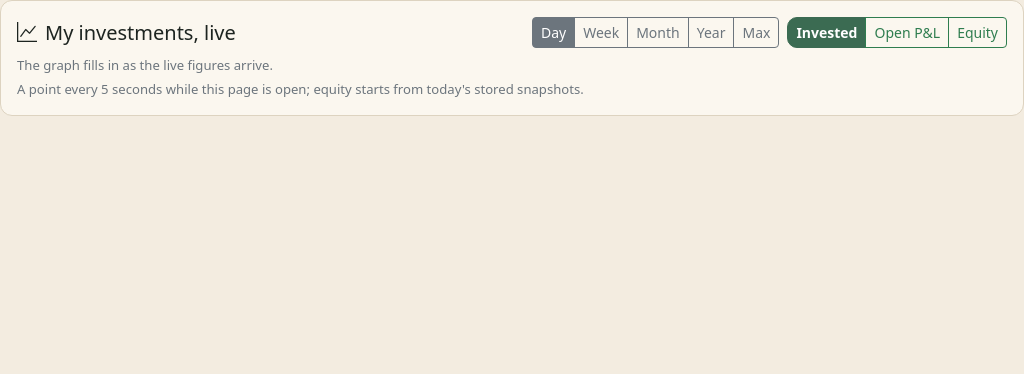
LiveInvestChart › shows a week, month, year or max from the stored snapshots (R43)
The width and height of the screenshot is (1024, 374).
expect the button "Day" is shown: met, box [532, 17, 575, 48]
expect the button "Month" is shown: met, box [627, 17, 689, 48]
What coordinates should you click on to do the following:
click the button "Week"
I would click on:
 (601, 32)
Its box is [574, 17, 628, 48].
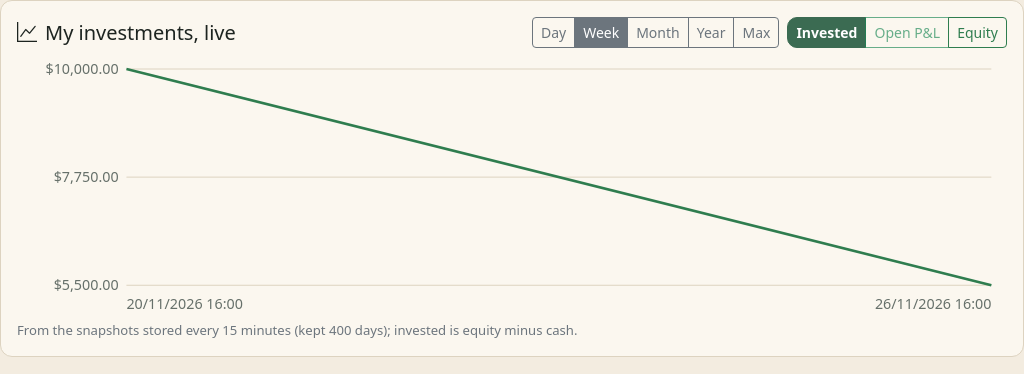
expect the picture named "Graph: Invested" is shown: met
expect the button "Open P&L" is disabled: met, box [866, 17, 949, 48]
What coordinates should you click on to do the following:
click the button "Max"
I would click on:
 (756, 32)
Its box is [734, 17, 780, 48].
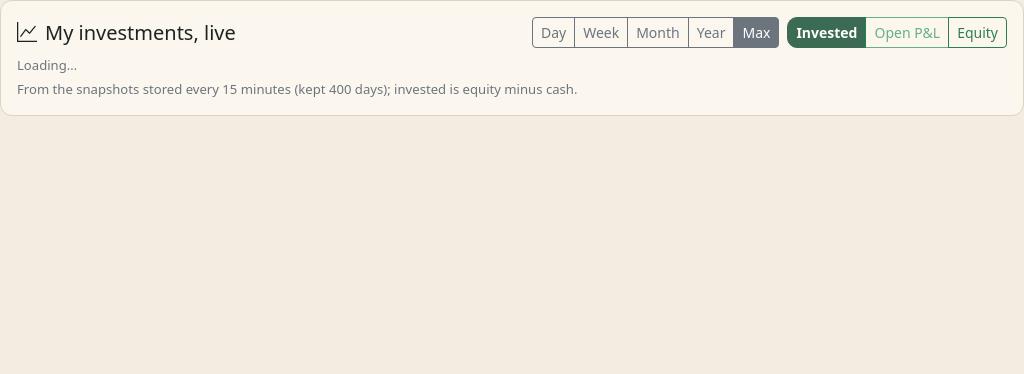
What coordinates should you click on to do the following:
click the button "Equity"
I would click on:
 (978, 32)
Its box is [948, 17, 1007, 48].
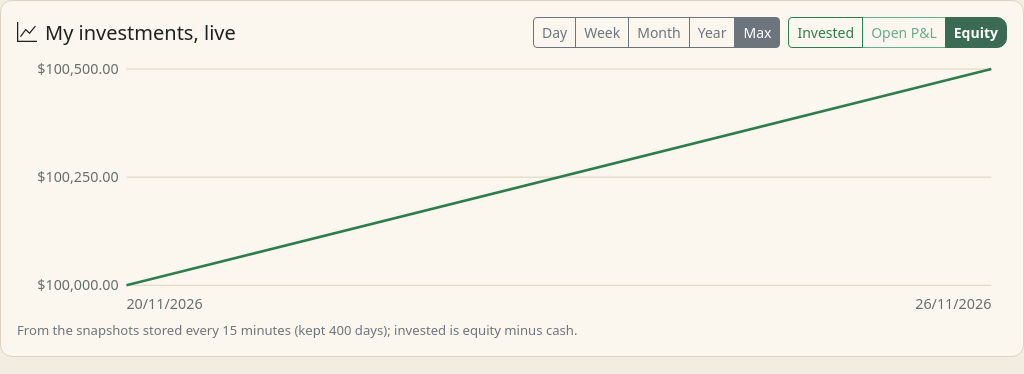
expect the picture named "Graph: Equity" is shown: met
